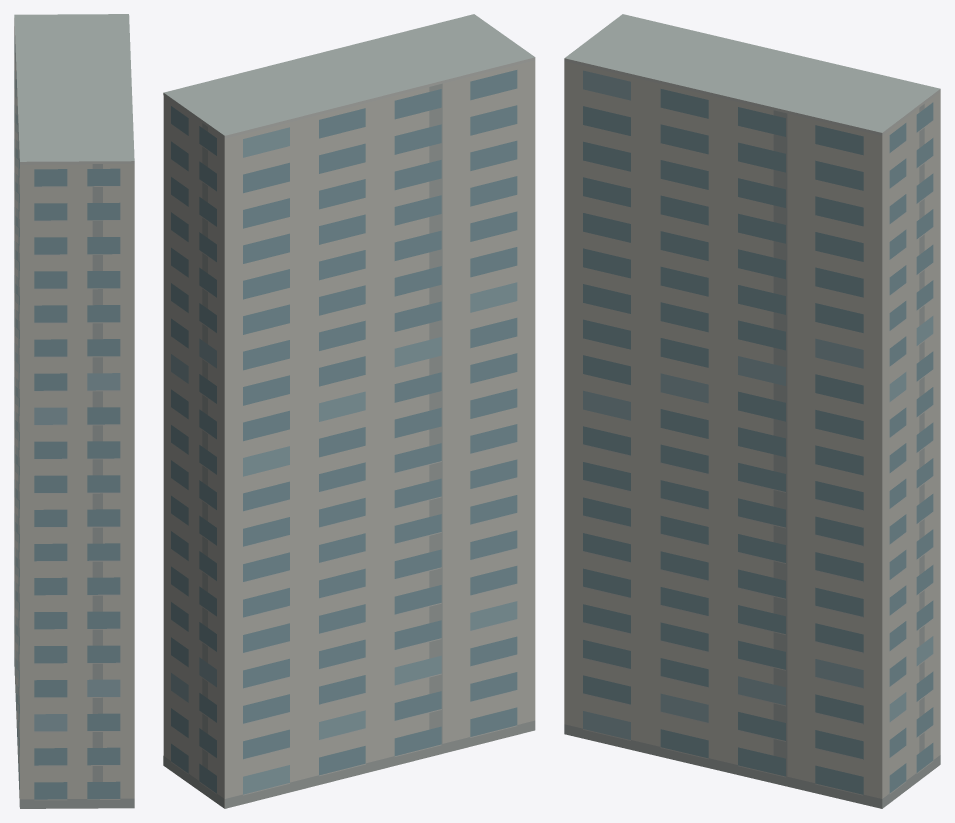
The model's file is residential-cac8d33e-eb37-4011-af0f-ae58829f314c.glb.
3 views of the same model, side by side, from view 1: azimuth 30°, elevation 25°; view 2: azimuth 150°, elevation 25°; view 3: azimuth 270°, elevation 25° (orthographic). The views are drawn at different scales.
Parts seen in each view (by area): view 1: residential-cac8d33e-eb37-4011-af0f-ae58829f314c.tmp; view 2: residential-cac8d33e-eb37-4011-af0f-ae58829f314c.tmp; view 3: residential-cac8d33e-eb37-4011-af0f-ae58829f314c.tmp.
Part boxes in pixels (<box>): residential-cac8d33e-eb37-4011-af0f-ae58829f314c.tmp: <box>14,14,134,808</box>; residential-cac8d33e-eb37-4011-af0f-ae58829f314c.tmp: <box>163,14,535,808</box>; residential-cac8d33e-eb37-4011-af0f-ae58829f314c.tmp: <box>564,14,940,808</box>.
Size of the model in its own units: 21.88 by 57.95 by 29.23.
